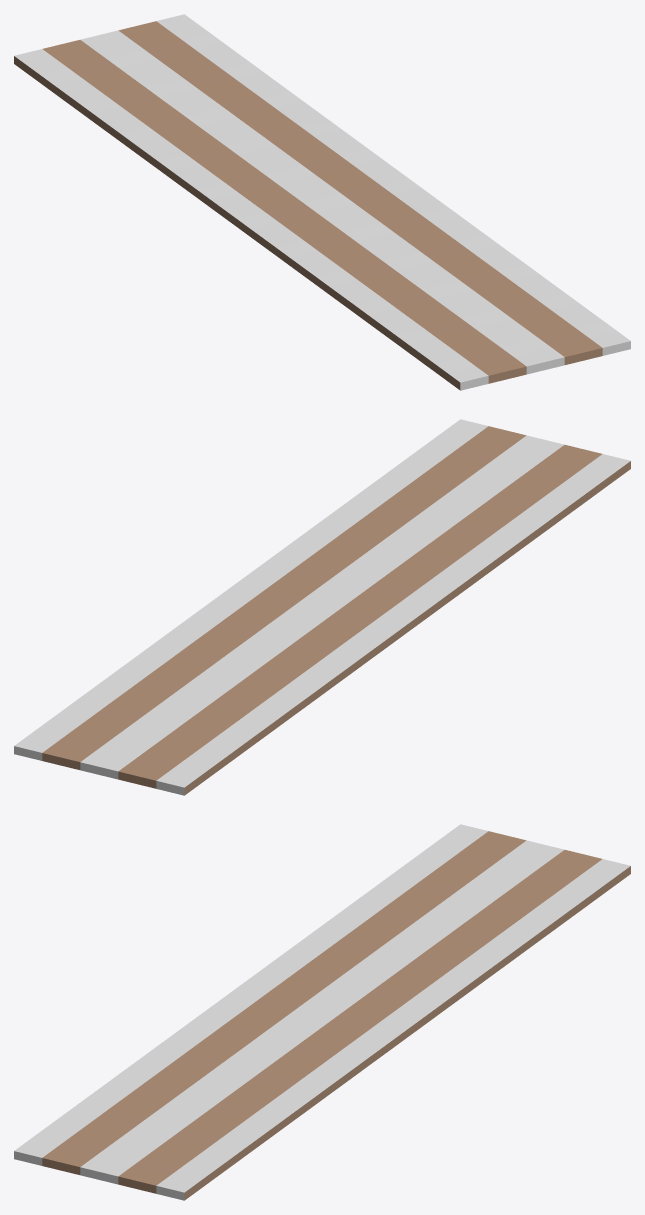
File: Suelo001.fbx
The picture shows the model from 3 angles, top to bottom: view 1: azimuth 30°, elevation 25°; view 2: azimuth 150°, elevation 25°; view 3: azimuth 330°, elevation 25°; orthographic projection.
Parts seen in each view (by area): view 1: Cube.006; view 2: Cube.006; view 3: Cube.006.
Boxes of the visible parts, x1,y1,x2,y2 form: Cube.006: (14, 14, 630, 390); Cube.006: (14, 419, 630, 795); Cube.006: (14, 824, 630, 1200).
Bounding box in the file's own units: 441 × 20.09 × 1998.
